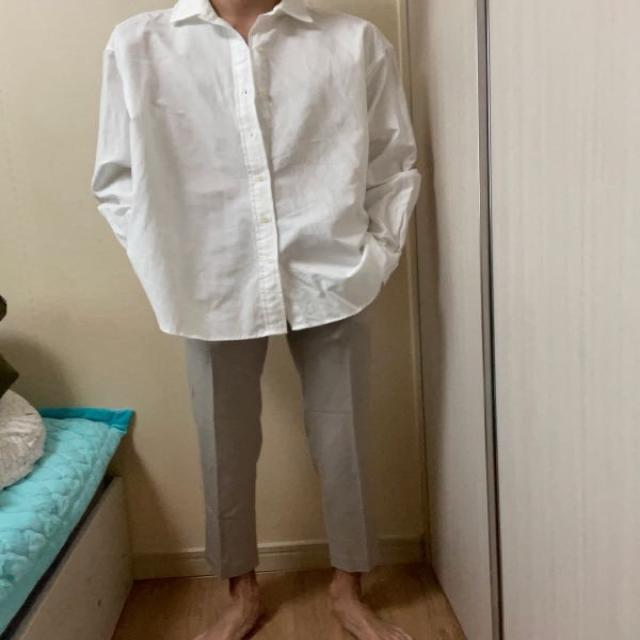shirt: (93, 0, 423, 339)
slacks: (184, 312, 386, 577)
